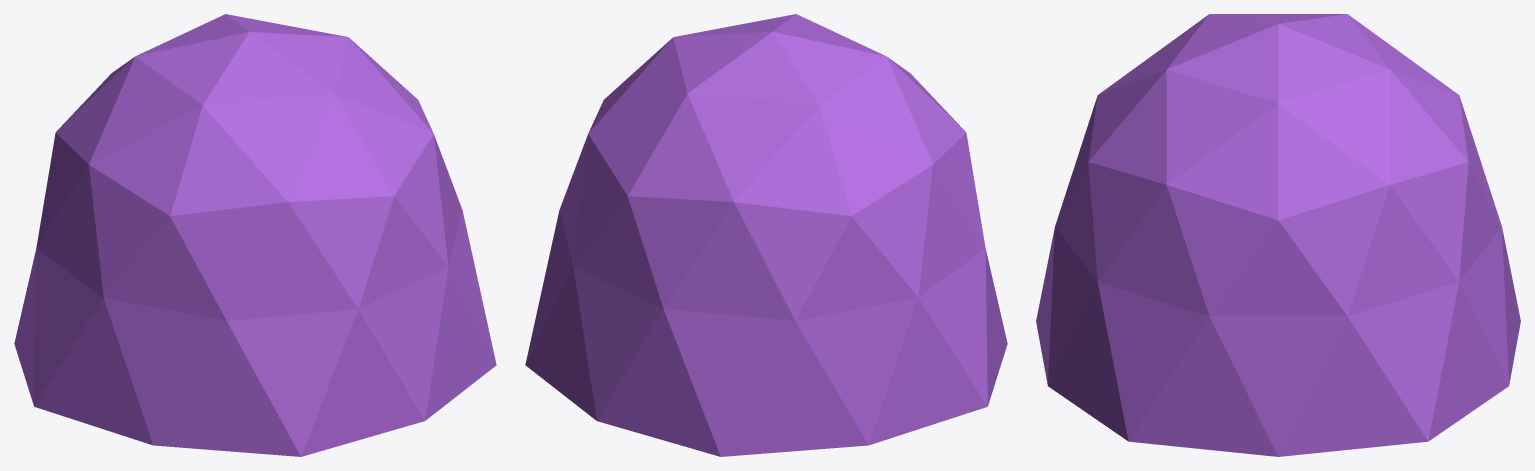
The model's file is PixiecabbageStage1.fbx.
The picture shows the model from 3 angles, left to right: view 1: azimuth 30°, elevation 25°; view 2: azimuth 150°, elevation 25°; view 3: azimuth 270°, elevation 25°; orthographic projection. The views are drawn at different scales.
Visible parts, largest first — view 1: Icosphere.004; view 2: Icosphere.004; view 3: Icosphere.004.
Boxes of the visible parts, bbox=[...] form: Icosphere.004: bbox=[14, 14, 496, 456]; Icosphere.004: bbox=[525, 14, 1007, 456]; Icosphere.004: bbox=[1036, 14, 1520, 456].
Size of the model in its own units: 33.56 by 24.61 by 32.72.
